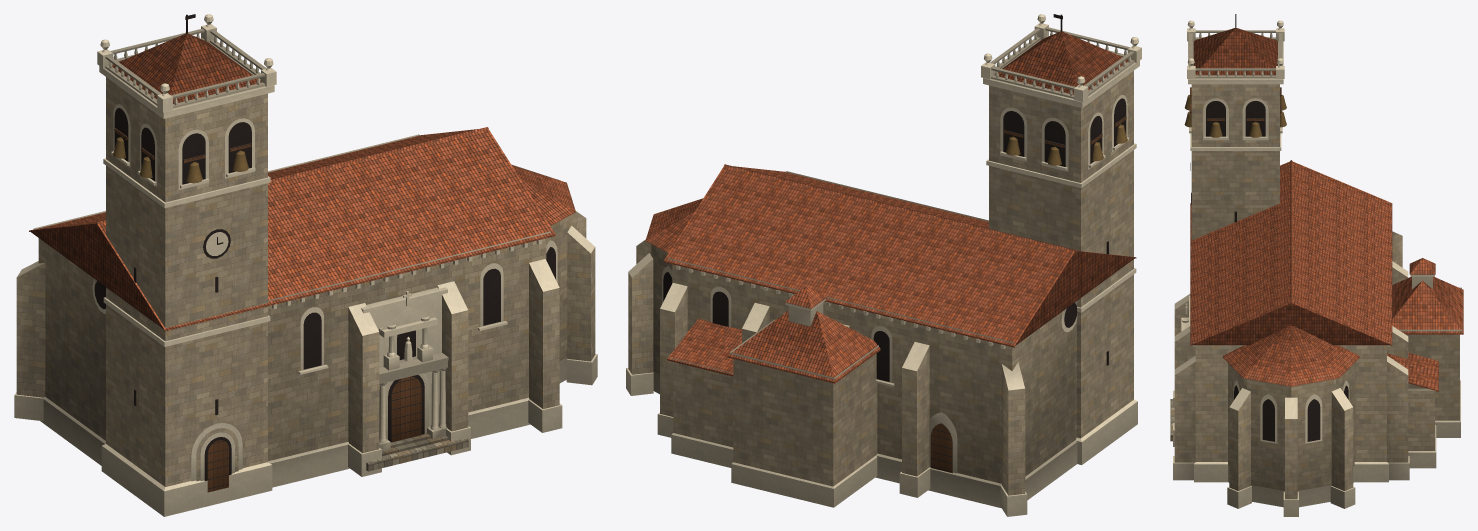
File: colegiata_roa.glb
3 renders of one model, left to right at view 1: azimuth 30°, elevation 25°; view 2: azimuth 150°, elevation 25°; view 3: azimuth 270°, elevation 25°, orthographic. The views are drawn at different scales.
Parts seen in each view (by area): view 1: colegiata_roa; view 2: colegiata_roa; view 3: colegiata_roa.
Part boxes in pixels (left/top/right/bottom): colegiata_roa: left=14, top=14, right=597, bottom=516; colegiata_roa: left=626, top=14, right=1141, bottom=516; colegiata_roa: left=1170, top=14, right=1463, bottom=516.
Size of the model in its own units: 44.99 by 39.95 by 30.65.
7 materials, 7 textured.
